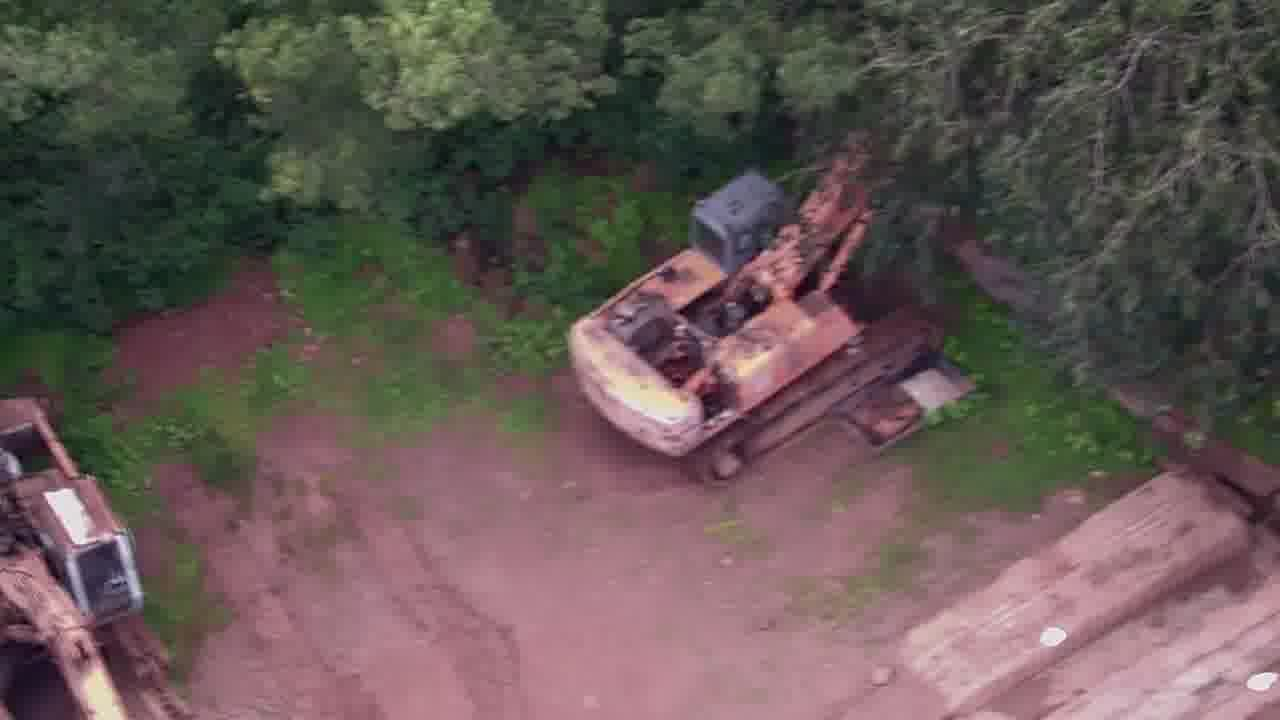HMV: (554, 123, 949, 505)
